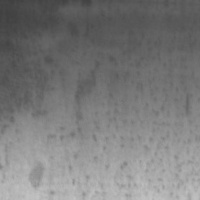pitted_surface: (0, 25, 200, 200)
